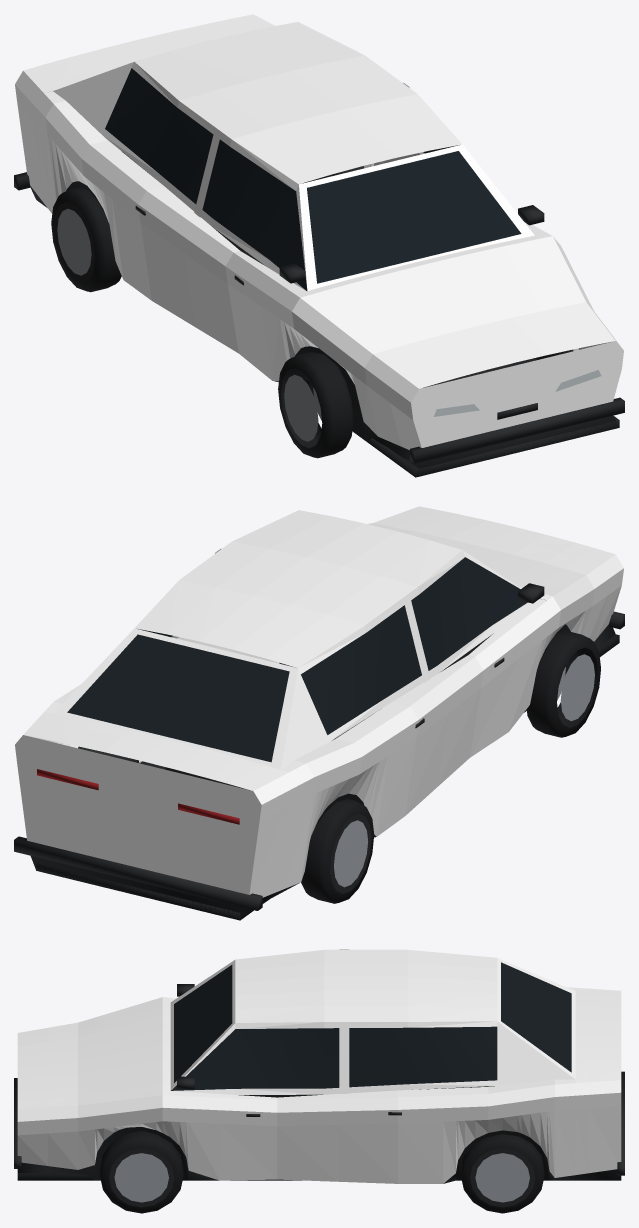
File: feldhaus_estrado.glb
3 views of the same model, one above another, from view 1: azimuth 30°, elevation 25°; view 2: azimuth 150°, elevation 25°; view 3: azimuth 270°, elevation 25° (orthographic). The views are drawn at different scales.
Parts seen in each view (by area): view 1: Body_Paint, Body_Details, Mount_FrontLeft_Wheel_Details, Mount_RearLeft_Wheel_Details; view 2: Body_Paint, Body_Details, Mount_FrontLeft_Wheel_Details, Mount_RearLeft_Wheel_Details; view 3: Body_Paint, Body_Details, Mount_FrontRight_Wheel_Details, Mount_RearRight_Wheel_Details.
Boxes of the visible parts, x1,y1,x2,y2 form: Body_Paint: (15, 14, 623, 450); Body_Details: (14, 68, 624, 477); Mount_FrontLeft_Wheel_Details: (278, 352, 353, 458); Mount_RearLeft_Wheel_Details: (51, 186, 121, 292); Body_Paint: (15, 506, 623, 897); Body_Details: (14, 557, 624, 920); Mount_FrontLeft_Wheel_Details: (526, 630, 600, 737); Mount_RearLeft_Wheel_Details: (301, 799, 374, 903); Body_Paint: (17, 949, 621, 1183); Body_Details: (14, 962, 624, 1183); Mount_FrontRight_Wheel_Details: (99, 1131, 183, 1213); Mount_RearRight_Wheel_Details: (460, 1134, 544, 1213).
Bounding box in the file's own units: 1.87 × 1.43 × 4.43.
2 materials, 1 textured.
